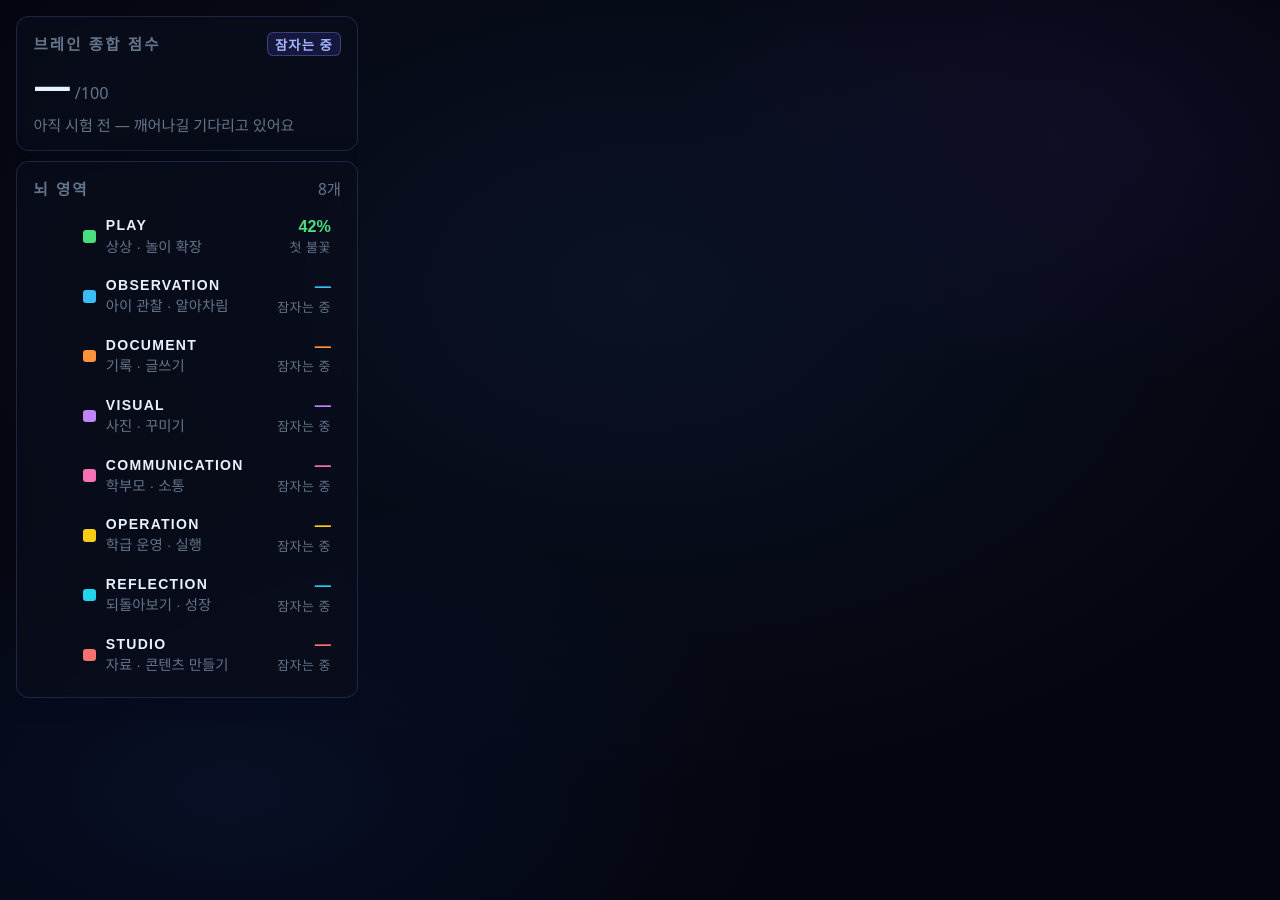
Scenario: RegionsPanel (§7-2) › T5.4(§7-6): 측정된 region은 stage_name이 API 값 그대로 흐른다 (Spark 등)
Expected: the text "첫 불꽃" is shown, [290, 237, 331, 256]
What coordinates should you click on to do the following:
click the text "PLAY"
I would click on:
 (126, 226)
Its box is [106, 218, 147, 234].
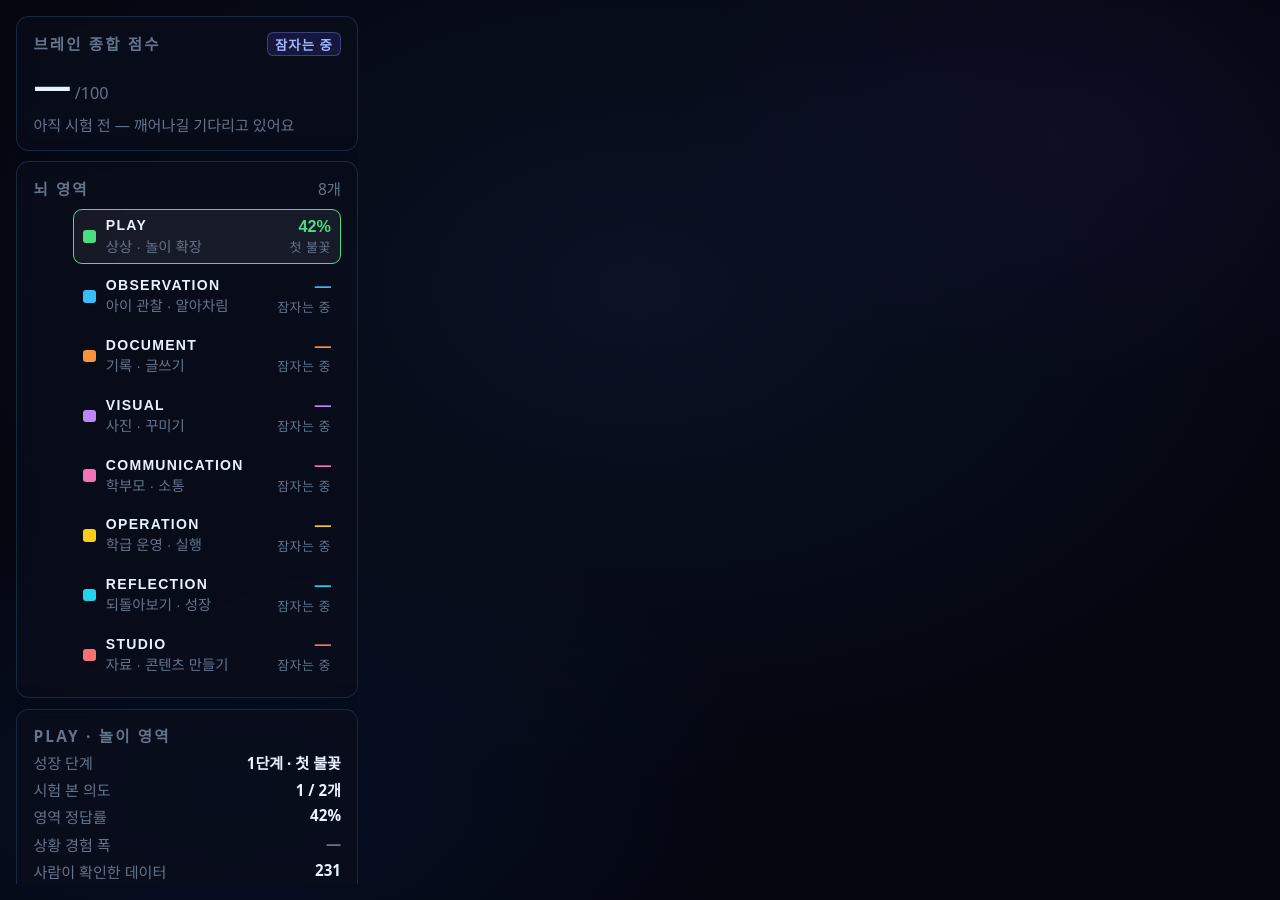
Now the text "1단계 · 첫 불꽃" is shown, box [247, 751, 341, 773]
Now the text "1 / 2개" is shown, box [296, 778, 341, 800]
Now the text "42%" in the row of "영역 정답률" is shown, box [310, 806, 341, 826]
